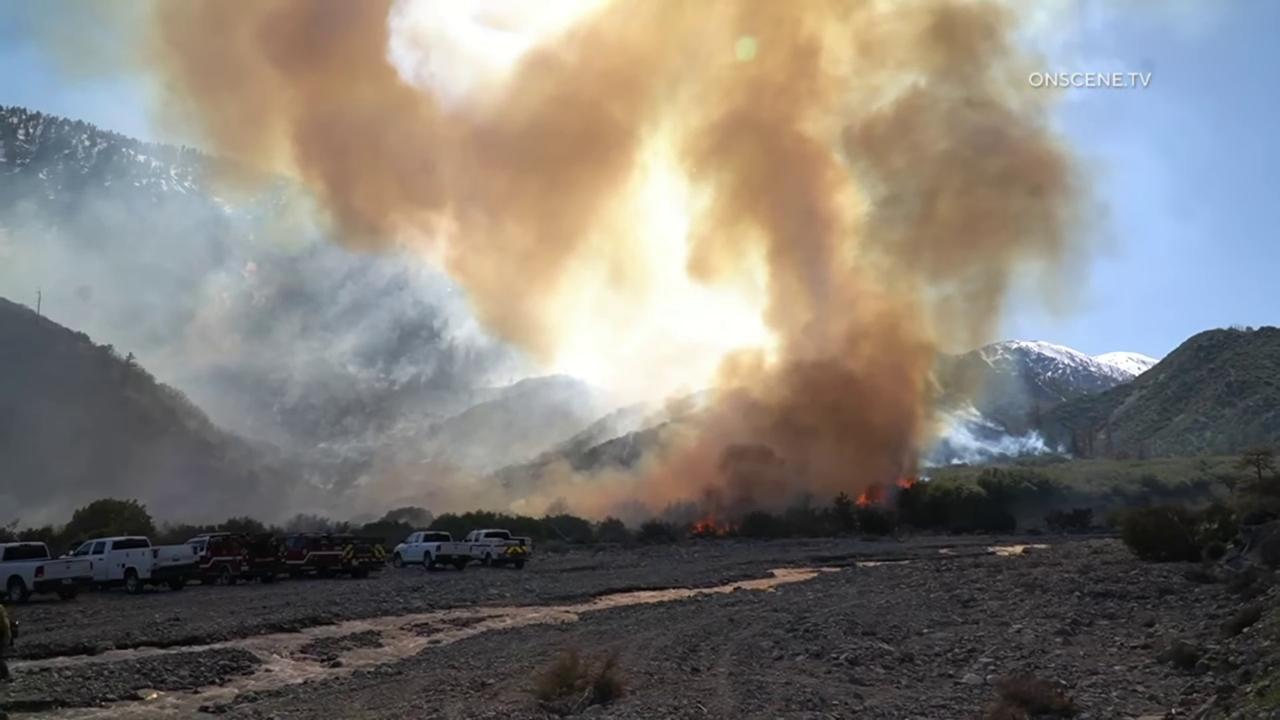fire: (694, 513, 716, 532), (852, 492, 872, 507), (895, 478, 917, 490)
smoke: (0, 0, 1129, 528)
